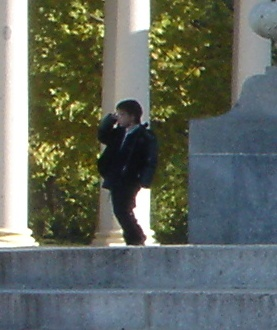person: (95, 98, 161, 245)
